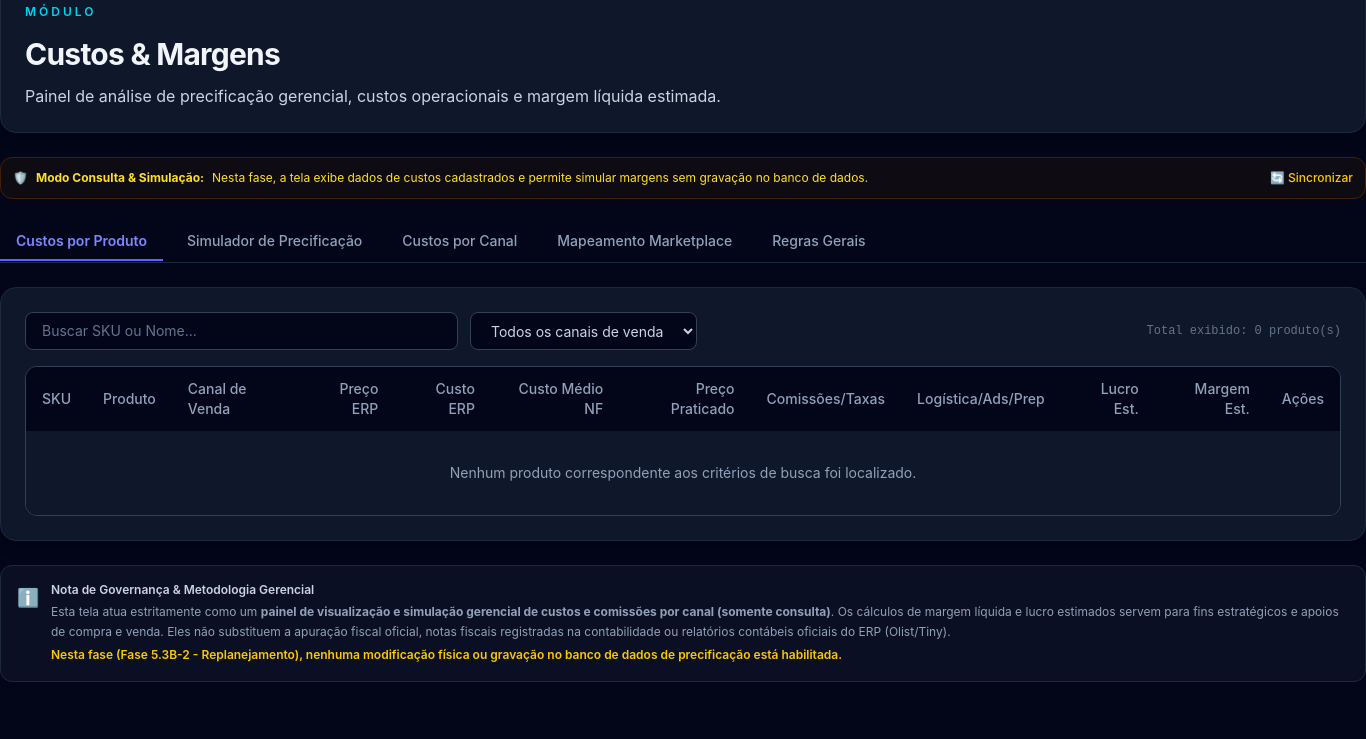
Scenario: CustosMargem - Simulador Mercado Livre (Fase 5.5L-6G.4) › 9. deve validar o fallback do provider padrao quando nenhum provider e injetado
Click the button "Simulador de Precificação" at (275,242), box [171, 223, 378, 261]
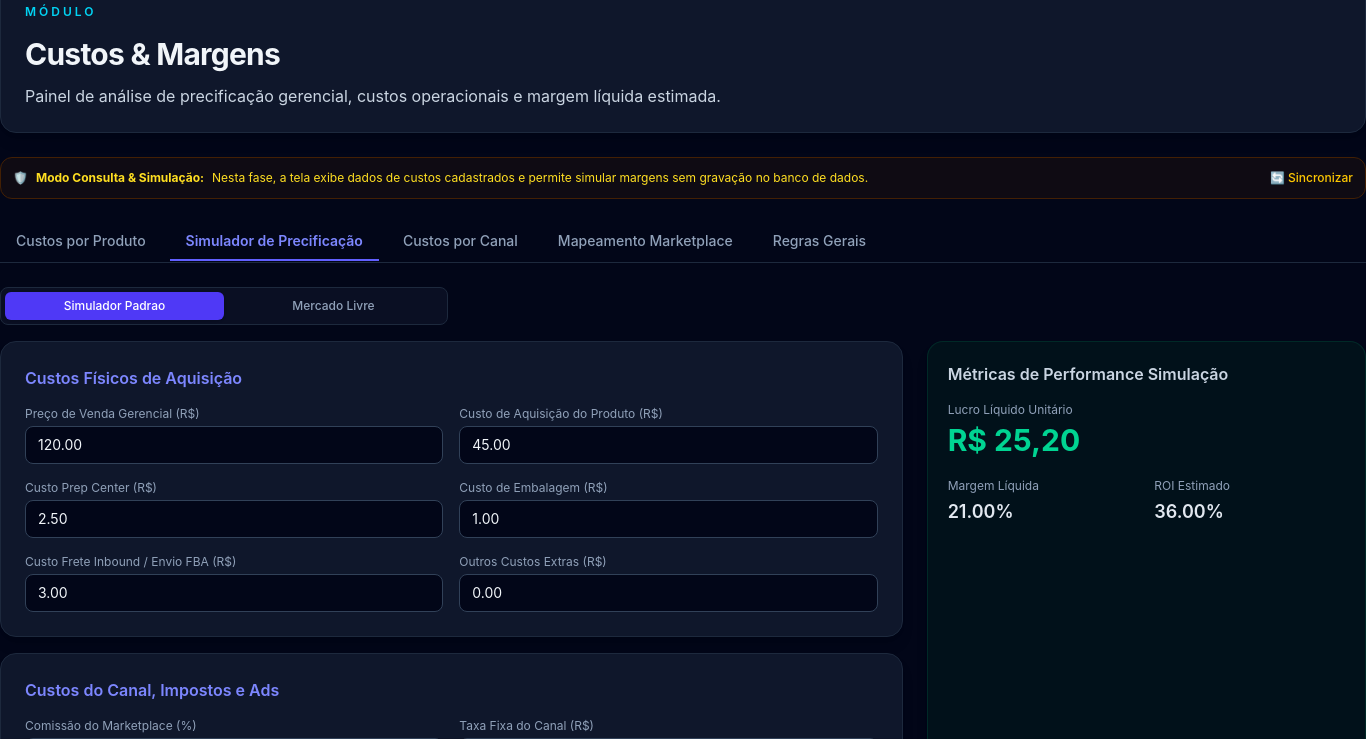
Click the button "Mercado Livre" at (334,306), box [224, 292, 443, 320]
(page scrolled)
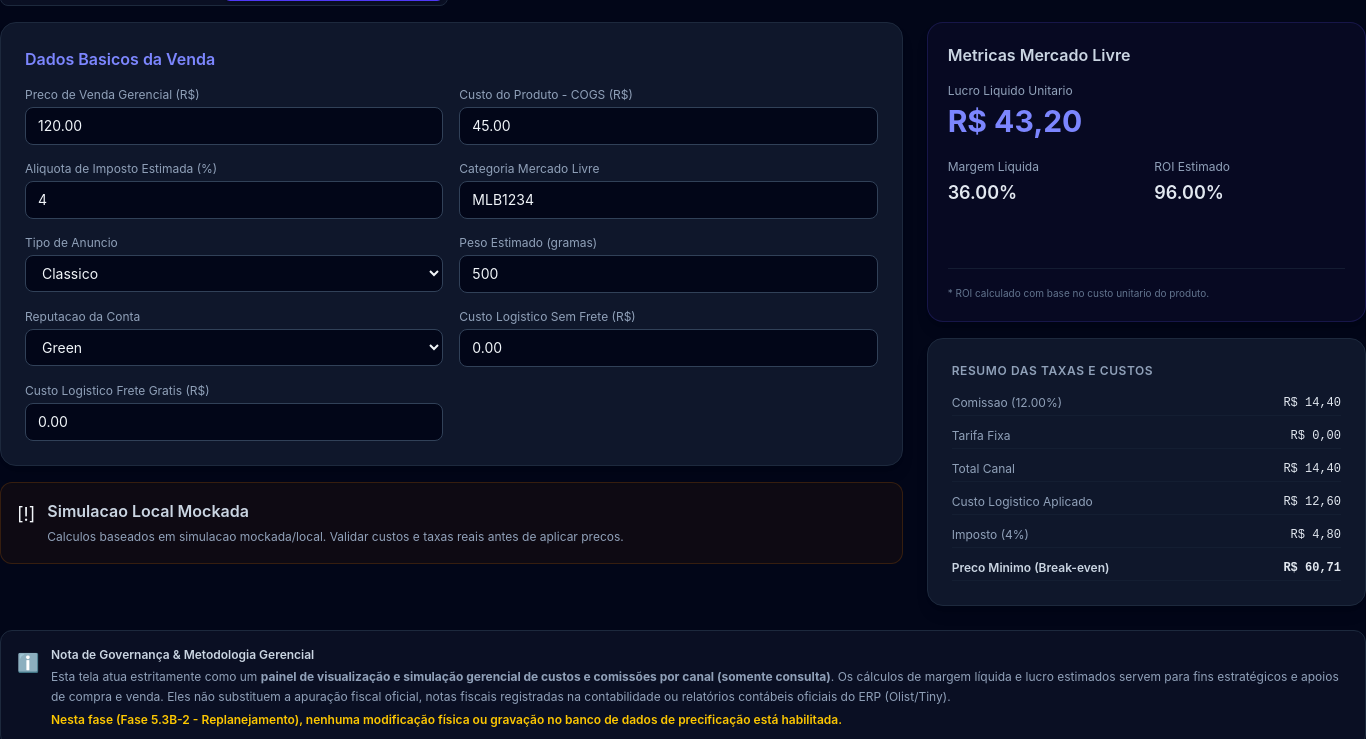
Check: the heading "Metricas Mercado Livre" is shown, box [948, 45, 1130, 65]
Check: the heading "Simulacao Local Mockada" is shown, box [47, 501, 249, 521]
